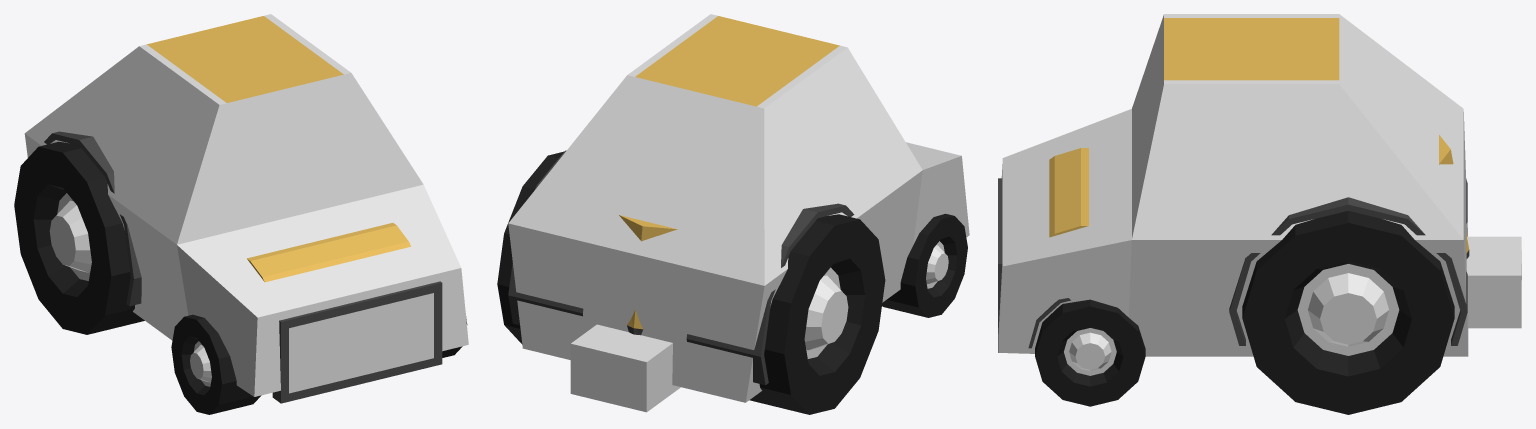
The model's file is trator.glb.
3 renders of one model, left to right at view 1: azimuth 30°, elevation 25°; view 2: azimuth 150°, elevation 25°; view 3: azimuth 270°, elevation 25°, orthographic. The views are drawn at different scales.
Parts seen in each view (by area): view 1: trator-convcolonly-rigid, trator-vehicle, wheel_back_right-wheel, wheel_front_right-wheel; view 2: trator-convcolonly-rigid, wheel_back_right-wheel, trator-vehicle, wheel_front_right-wheel, wheel_back_left-wheel; view 3: trator-convcolonly-rigid, wheel_back_left-wheel, trator-vehicle, wheel_front_left-wheel.
Part boxes in pixels (box(x1,y1,x2,y2)): trator-convcolonly-rigid: box(24, 14, 468, 396); trator-vehicle: box(44, 16, 442, 403); wheel_back_right-wheel: box(14, 141, 144, 334); wheel_front_right-wheel: box(171, 314, 261, 414); trator-convcolonly-rigid: box(508, 14, 969, 412); wheel_back_right-wheel: box(749, 214, 885, 414); trator-vehicle: box(508, 16, 854, 385); wheel_front_right-wheel: box(882, 213, 967, 317); wheel_back_left-wheel: box(497, 151, 563, 344); trator-convcolonly-rigid: box(998, 14, 1521, 356); wheel_back_left-wheel: box(1242, 211, 1454, 414); trator-vehicle: box(998, 18, 1521, 352); wheel_front_left-wheel: box(1035, 299, 1145, 406).
Bounding box in the file's own units: 3.77 × 3.5 × 5.68.
